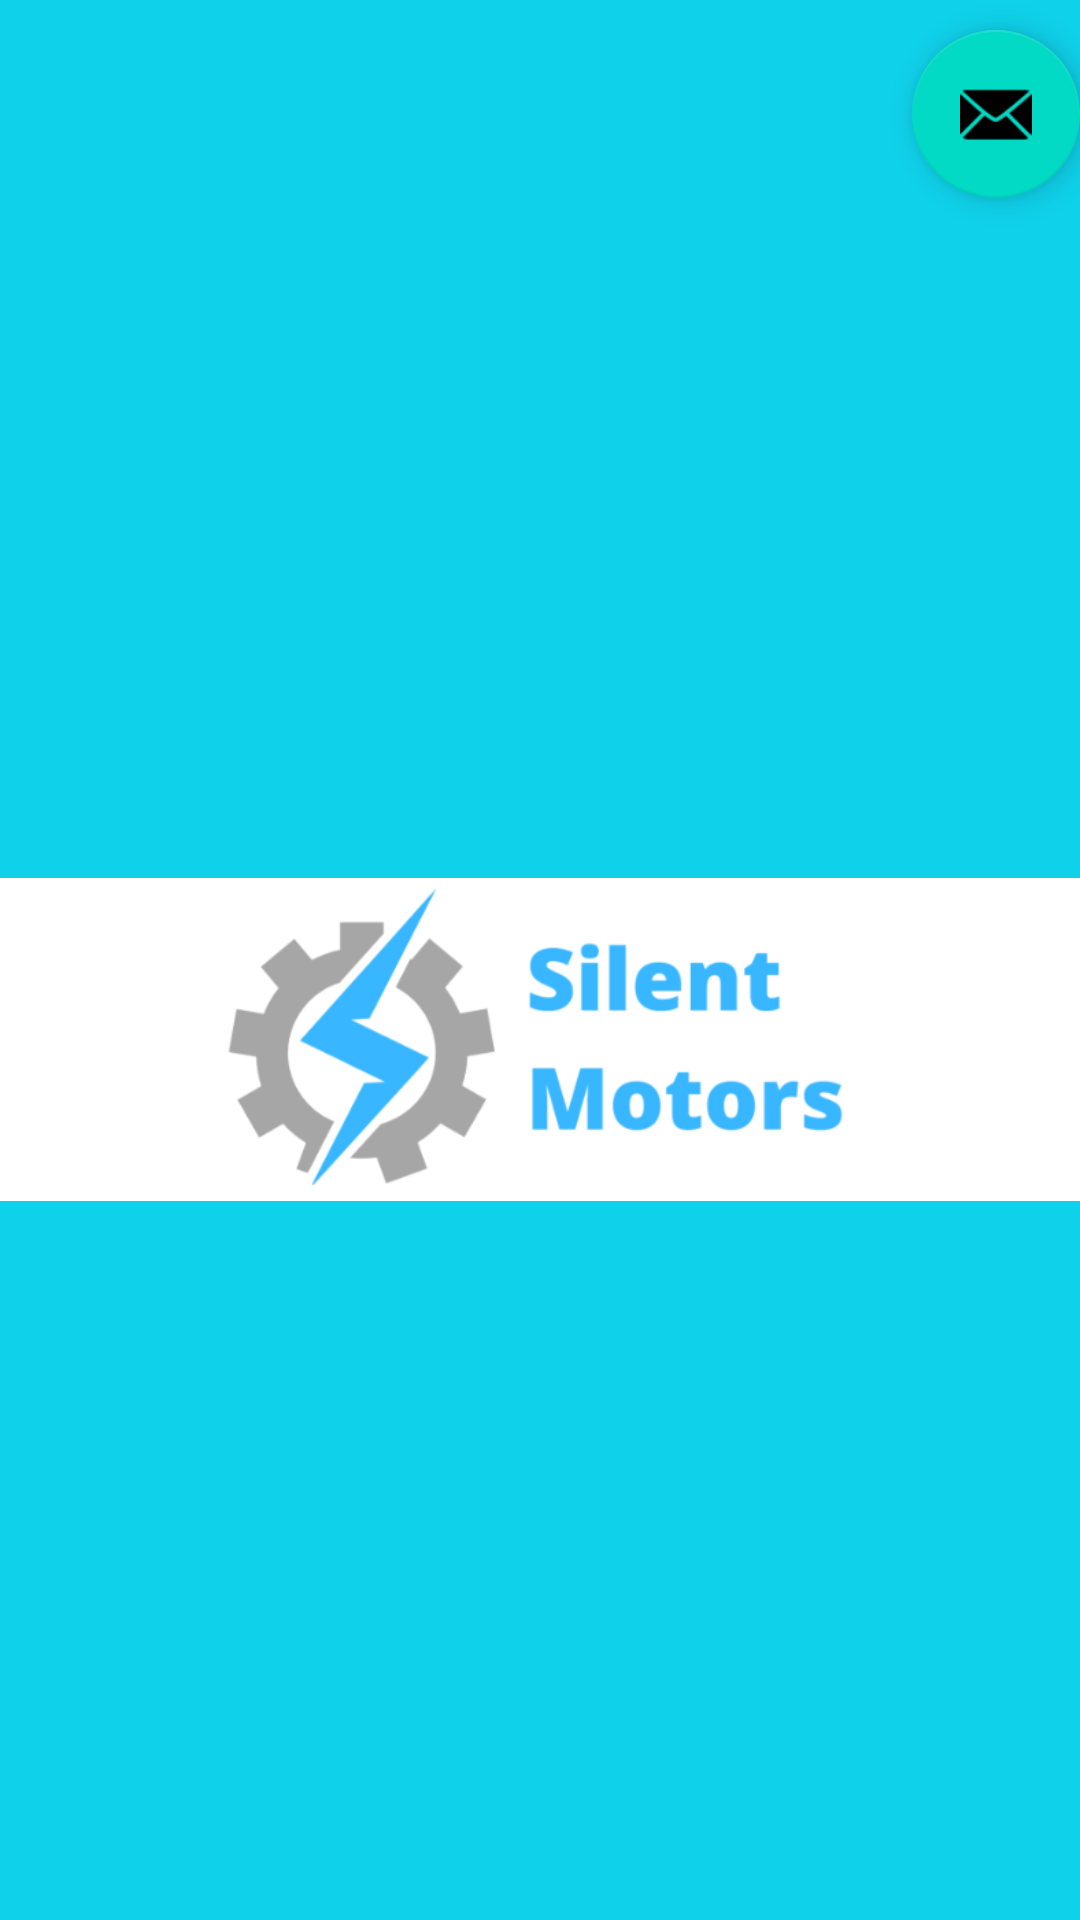

Where to tap for icons on this 1080 x 1920 app screen, as point (x, y):
email: point (996, 114)
